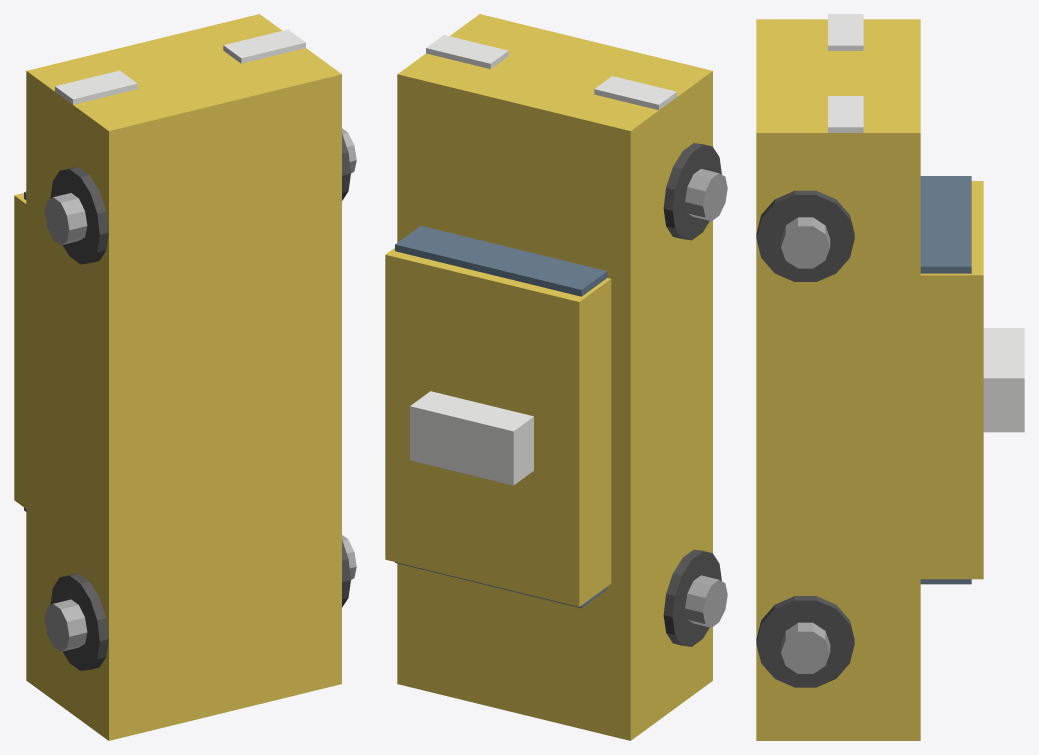
The model's file is taxi_sedan.glb.
3 renders of one model, left to right at view 1: azimuth 30°, elevation 25°; view 2: azimuth 150°, elevation 25°; view 3: azimuth 270°, elevation 25°, orthographic.
Visible parts, largest first — view 1: body, cabin, wheel_-1_1, wheel_-1_-1, hub_-1_-1, hub_-1_1, headlamp_l, headlamp_r; view 2: body, cabin, roofsign, glass_f, wheel_-1_1, wheel_-1_-1, hub_-1_1, hub_-1_-1, headlamp_r, headlamp_l; view 3: body, cabin, wheel_1_1, wheel_1_-1, glass_f, roofsign, hub_1_-1, hub_1_1, headlamp_l, headlamp_r.
Part boxes in pixels (<box>): body: <box>26,14,341,740</box>; cabin: <box>14,193,26,508</box>; wheel_-1_1: <box>50,167,108,264</box>; wheel_-1_-1: <box>50,573,108,670</box>; hub_-1_-1: <box>44,599,87,651</box>; hub_-1_1: <box>44,193,87,245</box>; headlamp_l: <box>55,70,137,104</box>; headlamp_r: <box>223,29,305,63</box>; body: <box>397,14,712,740</box>; cabin: <box>385,248,611,606</box>; roofsign: <box>410,391,533,485</box>; glass_f: <box>395,226,607,296</box>; wheel_-1_1: <box>663,143,721,240</box>; wheel_-1_-1: <box>663,549,721,646</box>; hub_-1_1: <box>685,169,727,221</box>; hub_-1_-1: <box>685,575,727,627</box>; headlamp_r: <box>426,35,508,69</box>; headlamp_l: <box>594,76,676,110</box>; body: <box>756,19,920,740</box>; cabin: <box>920,181,983,579</box>; wheel_1_1: <box>756,190,854,281</box>; wheel_1_-1: <box>756,596,854,687</box>; glass_f: <box>920,176,971,273</box>; roofsign: <box>983,328,1024,432</box>; hub_1_-1: <box>781,622,830,673</box>; hub_1_1: <box>781,217,830,268</box>; headlamp_l: <box>828,14,863,50</box>; headlamp_r: <box>828,96,863,132</box>.
Bounding box in the file's own units: 2.22 × 4.58 × 1.8.
